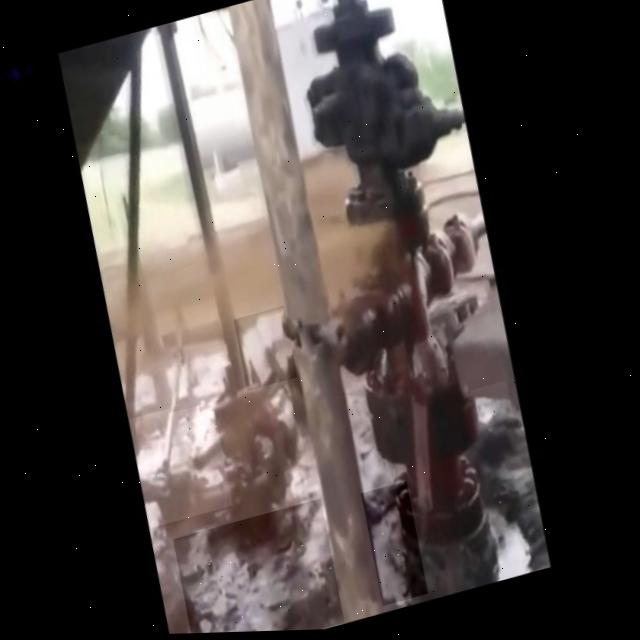spillage: (181, 500, 352, 635), (135, 398, 239, 528), (367, 483, 435, 608), (164, 345, 241, 414), (239, 308, 302, 392), (489, 494, 540, 583), (475, 384, 518, 432)
